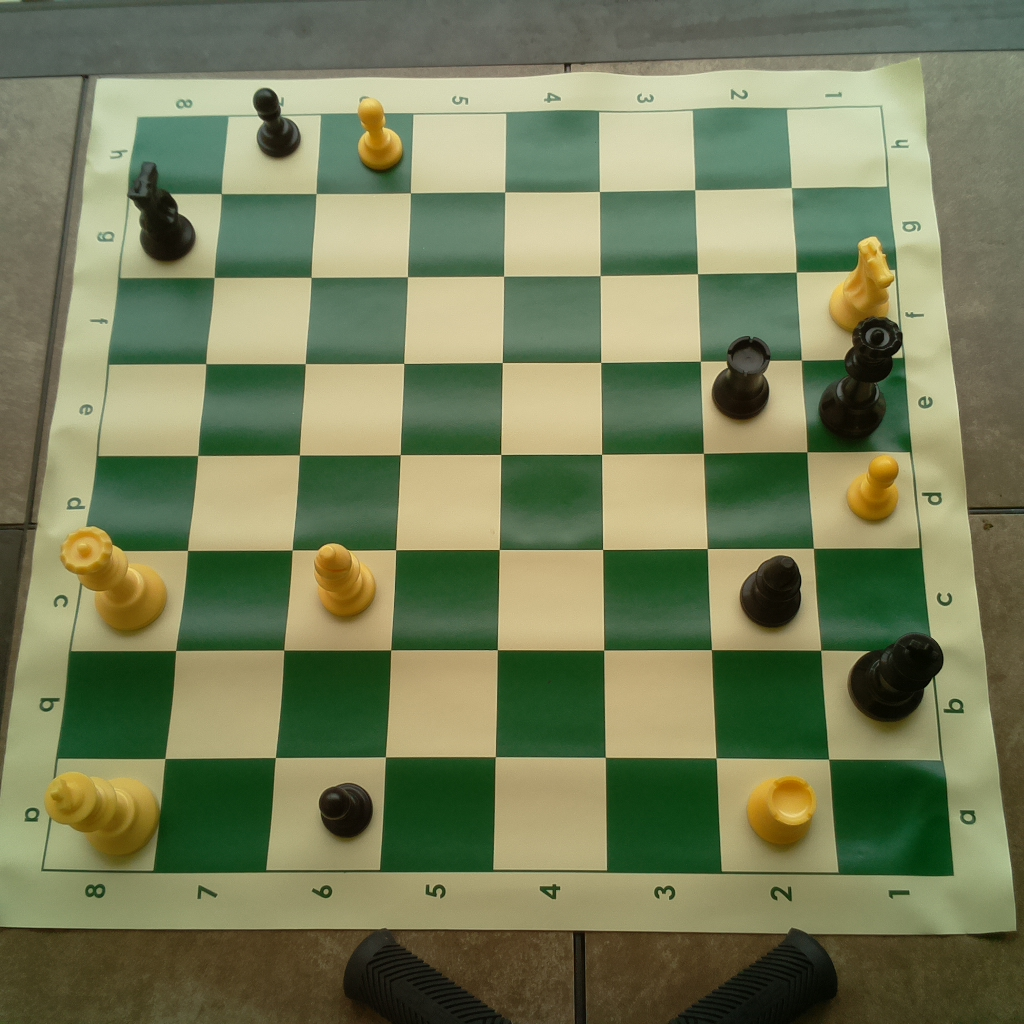black_bishop: (733, 552, 807, 630)
black_king: (844, 632, 947, 723)
black_knight: (125, 160, 199, 265)
black_pawn: (247, 86, 305, 165), (315, 774, 379, 840)
black_queen: (812, 313, 905, 443)
black_rook: (707, 330, 775, 425)
file_a: (42, 758, 955, 874)
file_b: (57, 652, 942, 761)
file_c: (71, 549, 934, 654)
file_d: (80, 454, 920, 551)
file_e: (94, 360, 910, 453)
file_f: (108, 265, 902, 358)
file_g: (120, 186, 898, 282)
file_h: (128, 106, 889, 195)
outline: (40, 106, 953, 873)
rank_1: (789, 106, 954, 874)
rank_2: (692, 104, 841, 874)
rank_3: (599, 110, 724, 873)
rank_4: (490, 112, 610, 869)
rank_5: (380, 112, 507, 871)
rank_6: (264, 115, 414, 871)
rank_7: (153, 115, 321, 871)
rank_8: (41, 114, 228, 871)
white_bishop: (312, 541, 379, 621)
white_king: (40, 765, 163, 857)
white_knight: (825, 230, 898, 338)
white_pawn: (845, 454, 905, 526), (354, 97, 408, 173)
white_queen: (57, 525, 175, 635)
white_rook: (744, 766, 820, 854)
